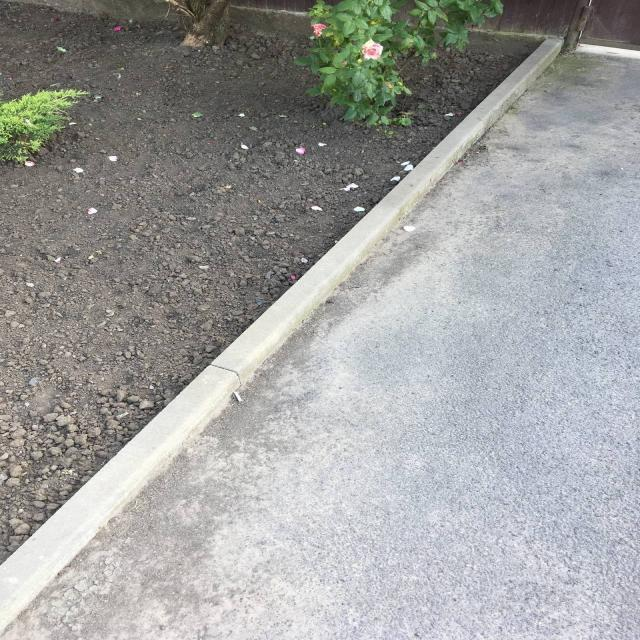bump: (0, 411, 194, 628), (161, 318, 283, 452), (254, 238, 370, 349), (329, 162, 434, 272)
